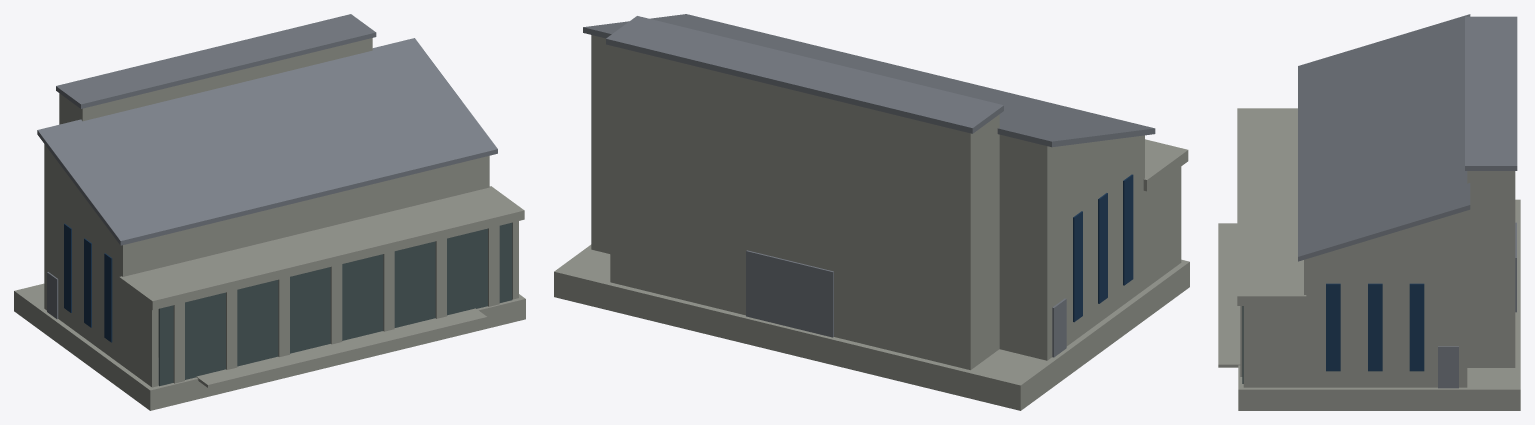
Rendered from mashup-hall-top-prebuilt.fbx.
3 views of the same model, side by side, from view 1: azimuth 30°, elevation 25°; view 2: azimuth 150°, elevation 25°; view 3: azimuth 270°, elevation 25° (orthographic). The views are drawn at different scales.
Visible parts, largest first — view 1: a201.Hall; view 2: a201.Hall; view 3: a201.Hall.
Boxes of the visible parts, box(x1,y1,x2,y2) form: a201.Hall: box(14, 14, 525, 410); a201.Hall: box(554, 14, 1189, 410); a201.Hall: box(1218, 14, 1520, 410).
Size of the model in its own units: 21.6 by 11.85 by 14.45.
